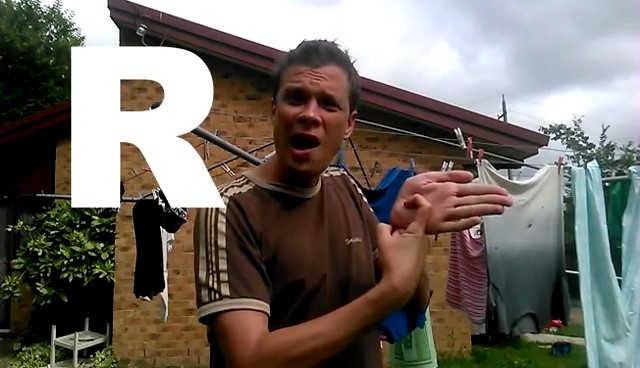R: (365, 160, 521, 302)
